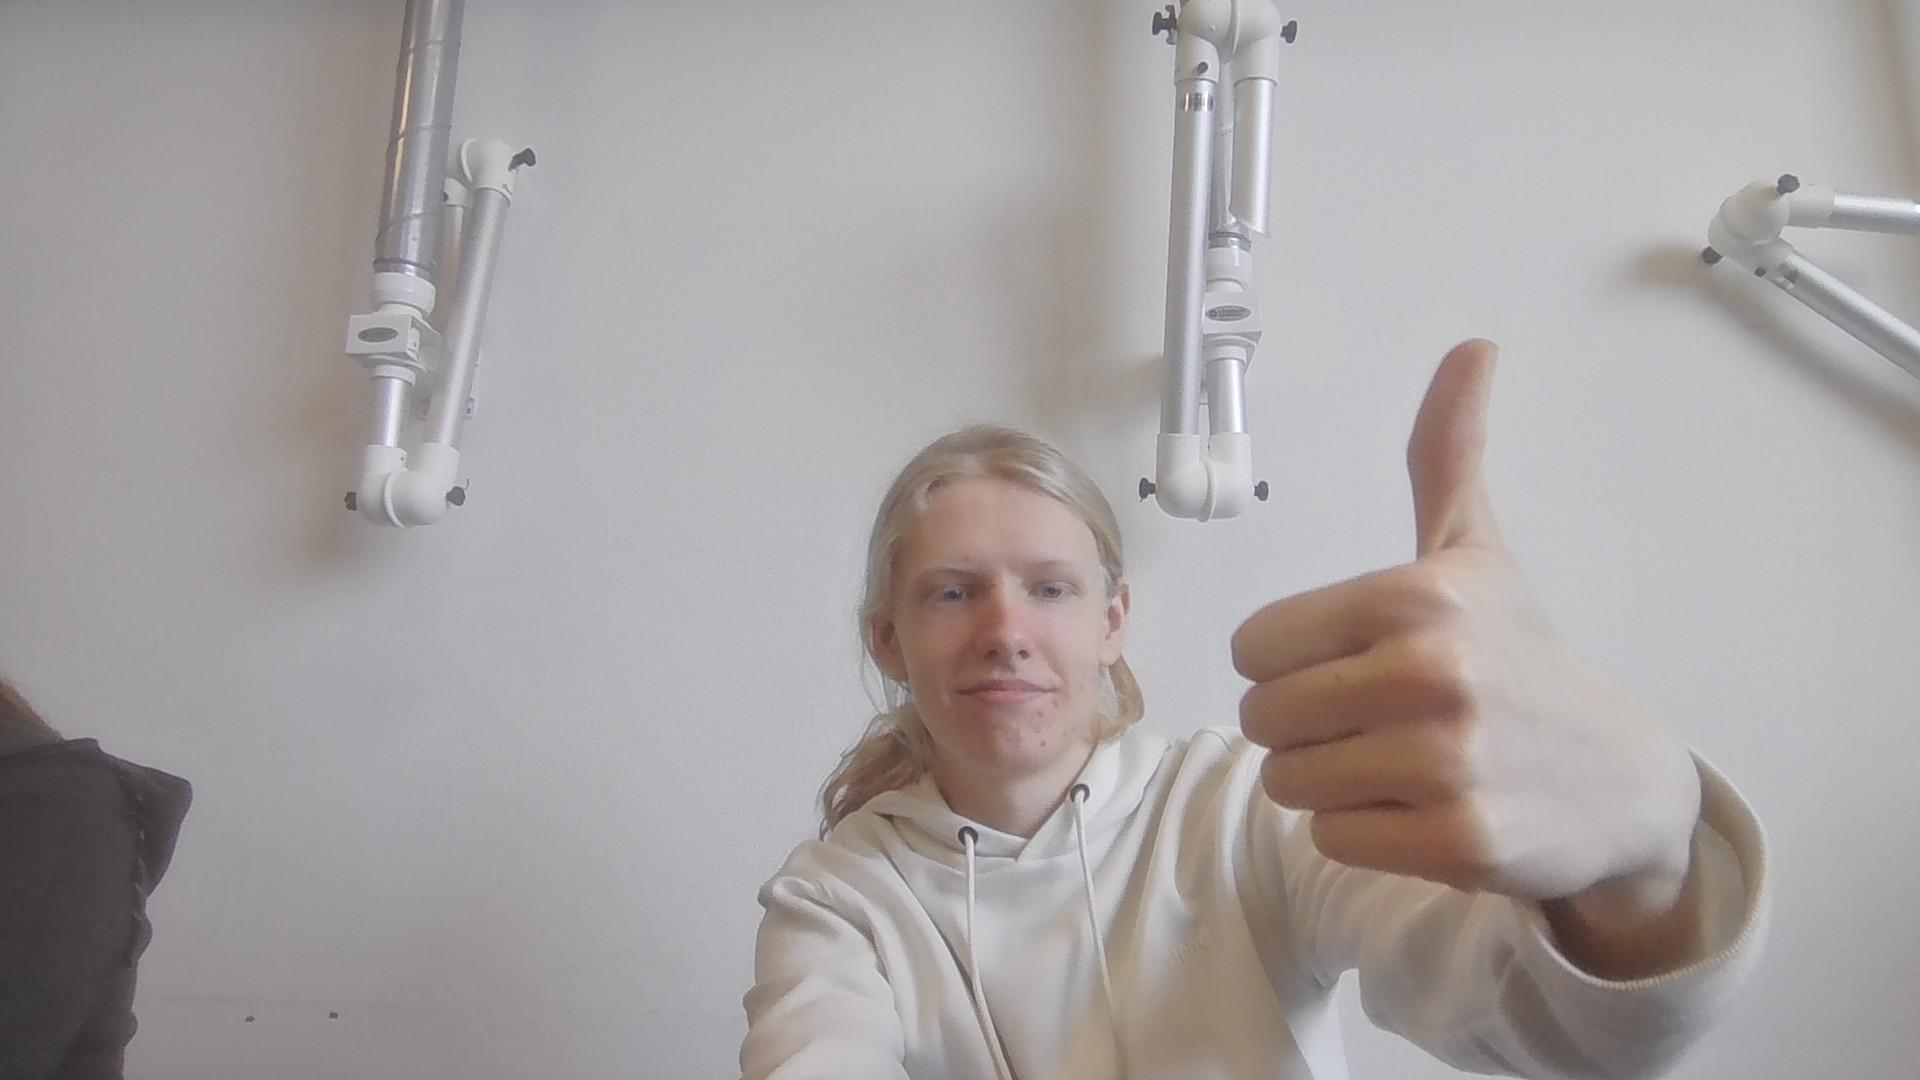thumbs up: (1211, 334, 1705, 903)
